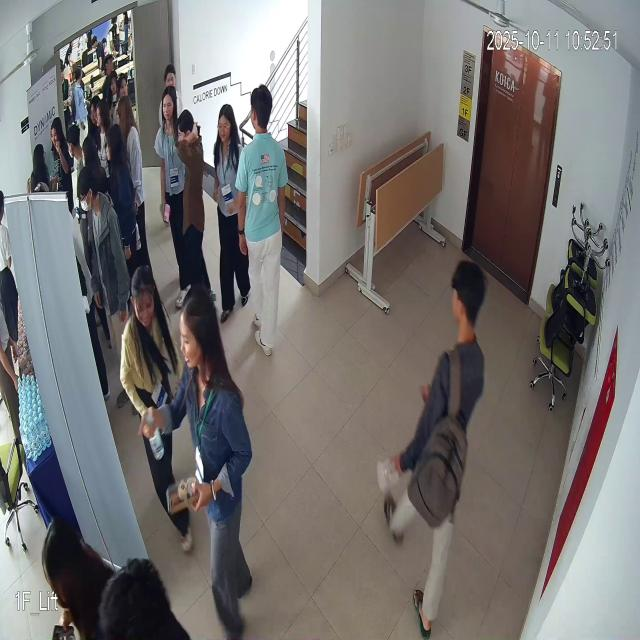face: (126, 253, 164, 332), (215, 101, 237, 149)
